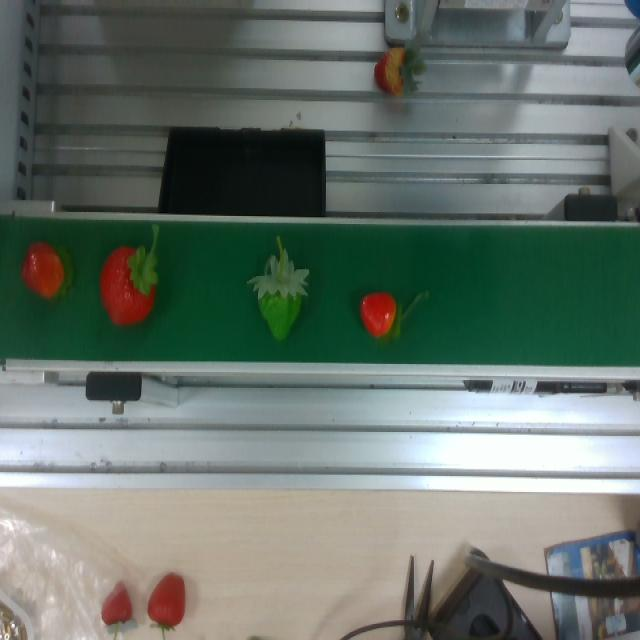Large Ripe Strawberry: (96, 240, 154, 334)
Small Ripe Strawberry: (354, 283, 416, 341), (20, 236, 72, 298)
Small Unripe Strawberry: (245, 258, 318, 346)
conveyor: (0, 209, 640, 383)
